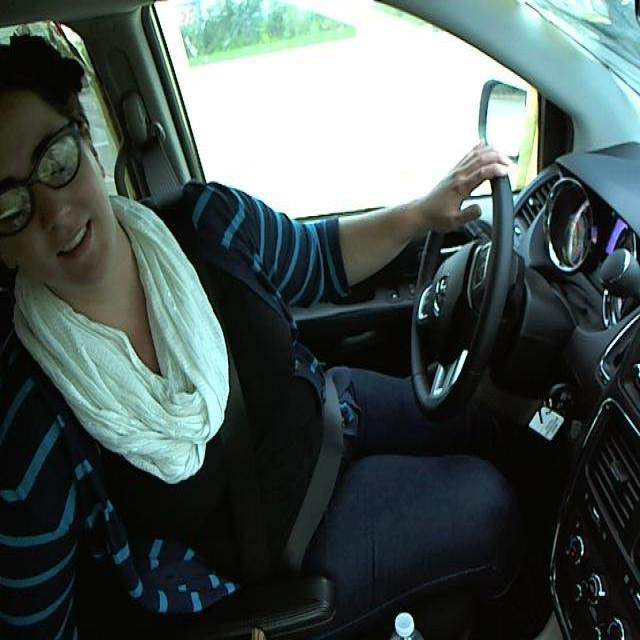seatbelt: (161, 216, 348, 556)
